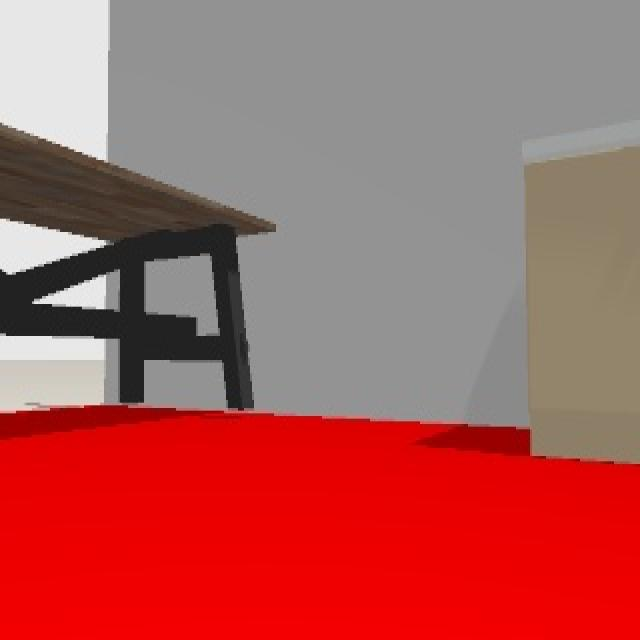dining: (0, 117, 276, 416)
